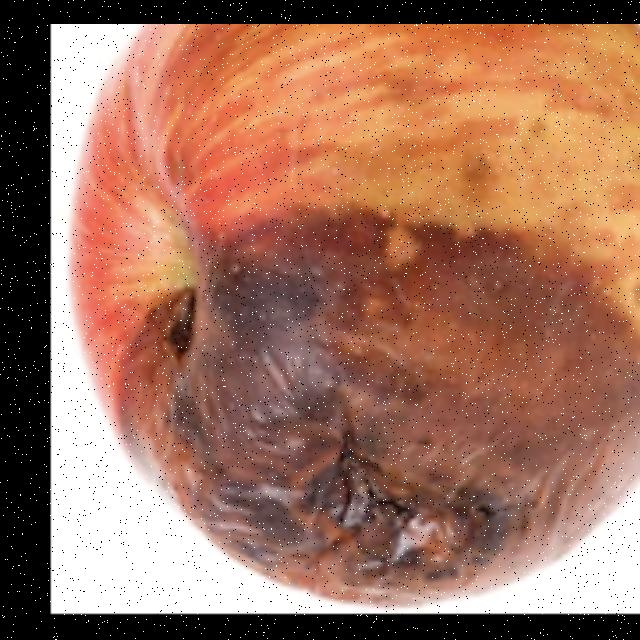Apel Tidak Segar: (42, 23, 640, 604)
